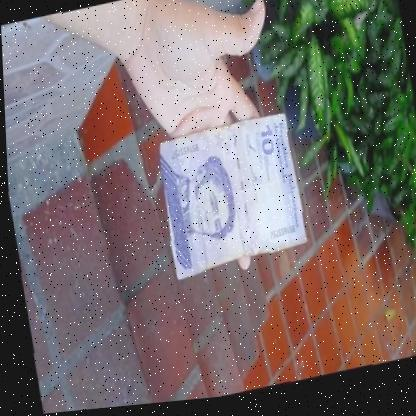ten-front-vef: (152, 115, 309, 283)
